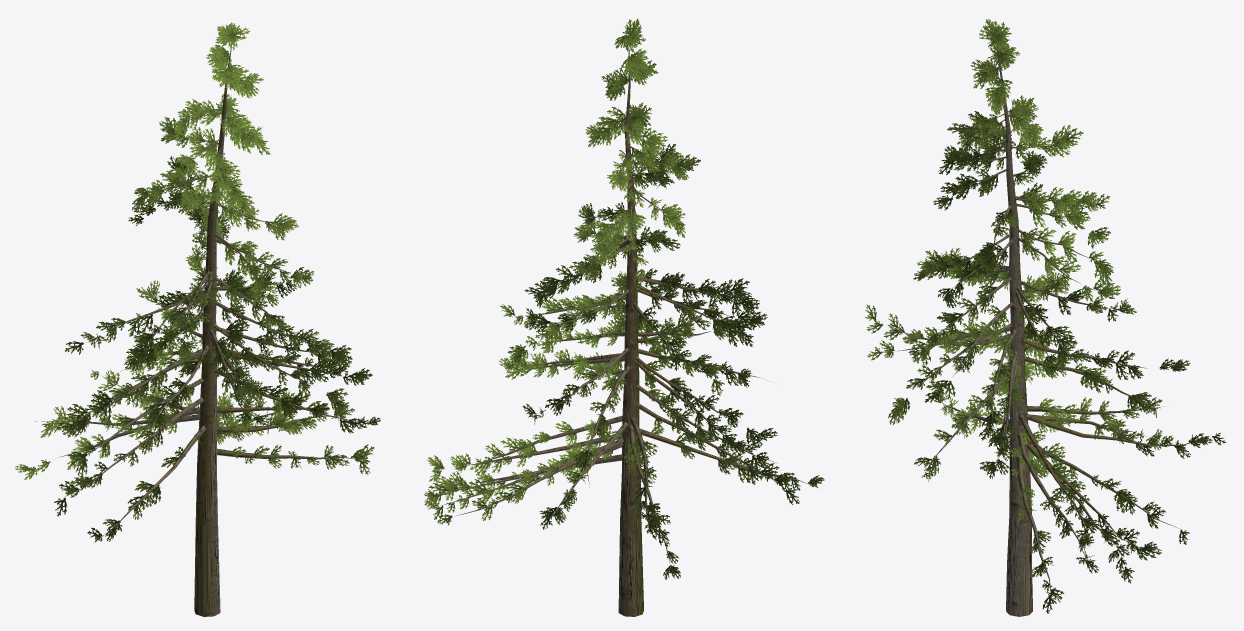
The model's file is pine.glb.
3 views of the same model, side by side, from view 1: azimuth 30°, elevation 25°; view 2: azimuth 150°, elevation 25°; view 3: azimuth 270°, elevation 25° (orthographic). The views are drawn at different scales.
Parts seen in each view (by area): view 1: pine-leaves, pine-bark; view 2: pine-leaves, pine-bark; view 3: pine-leaves, pine-bark.
Boxes of the visible parts, <box> form: pine-leaves: <box>15,22,380,542</box>; pine-bark: <box>35,45,370,616</box>; pine-leaves: <box>424,18,824,579</box>; pine-bark: <box>435,34,816,616</box>; pine-leaves: <box>865,19,1225,613</box>; pine-bark: <box>892,35,1209,616</box>.
Size of the model in its own units: 7.75 by 12.5 by 7.02.
Materials: 2 (2 with a texture image).
